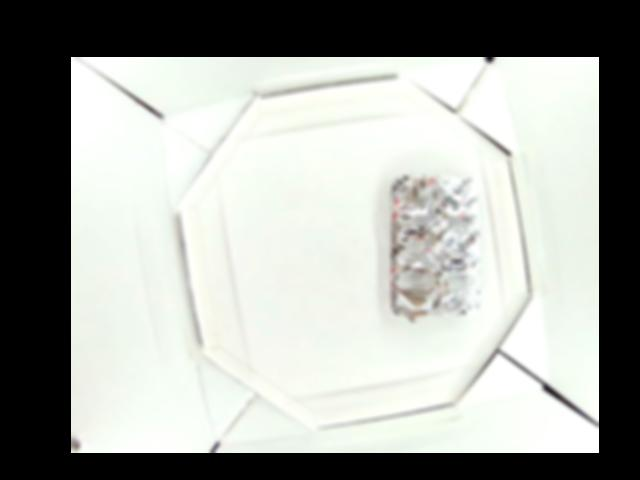Medicine: (390, 171, 483, 319)
